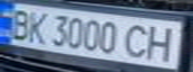0: (100, 18, 124, 55), (81, 16, 103, 53), (66, 15, 84, 51)
3: (48, 12, 72, 48)
B: (3, 7, 36, 42)
C: (121, 21, 154, 60)
H: (142, 22, 181, 64)
K: (24, 8, 51, 45)
